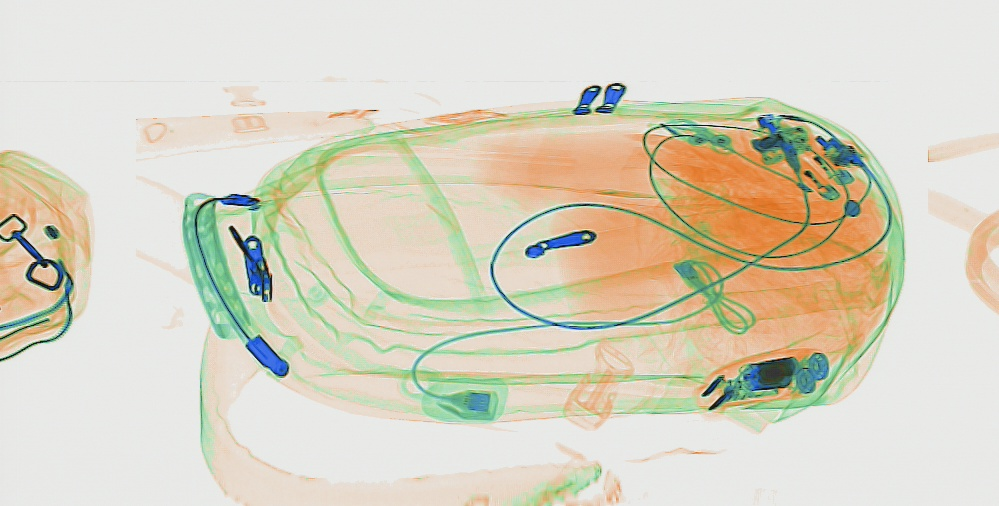lighter: (789, 113, 867, 185), (768, 143, 843, 207)
